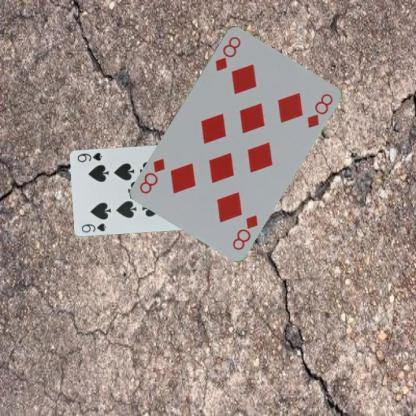8d: (230, 211, 260, 252), (212, 33, 242, 72)
9s: (79, 220, 108, 234)
